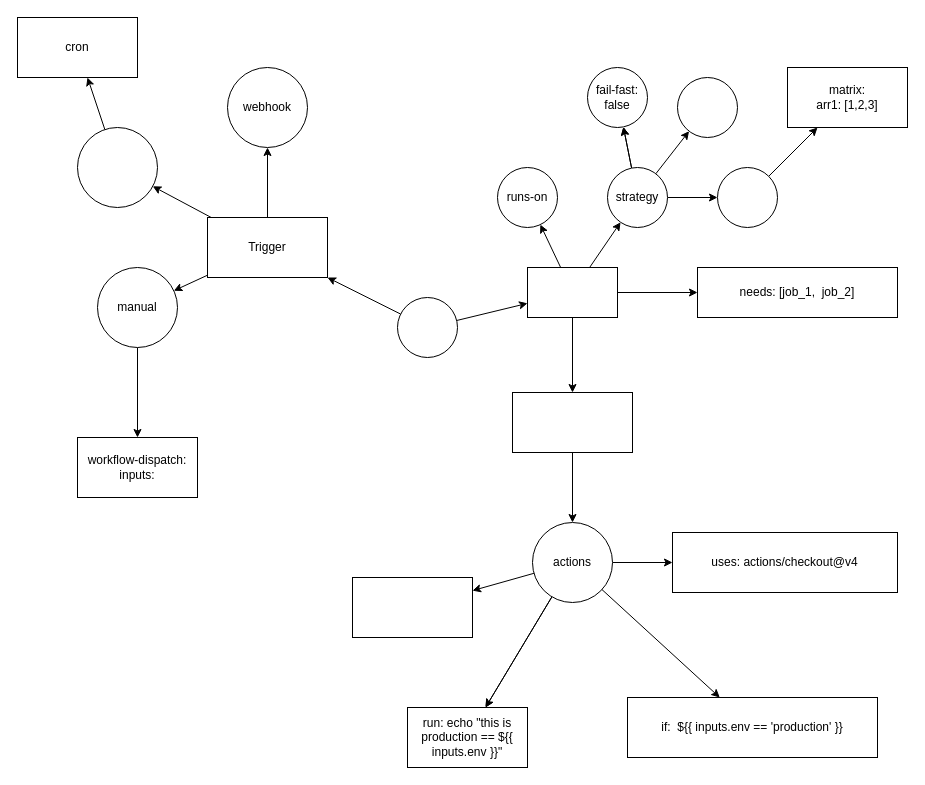
Image size: 925x785. Some labels were removed from this diagram. Here are the shapes that lost their labels. From the top down, the box of each, then its label:
(676, 76, 738, 138): max-parallel
(76, 126, 158, 208): schedule
(716, 166, 778, 228): matrix
(526, 266, 618, 318): Jobs
(396, 296, 458, 358): Gitgub Actions
(512, 392, 632, 452): Steps
(352, 576, 472, 638): name: "start the new action"
